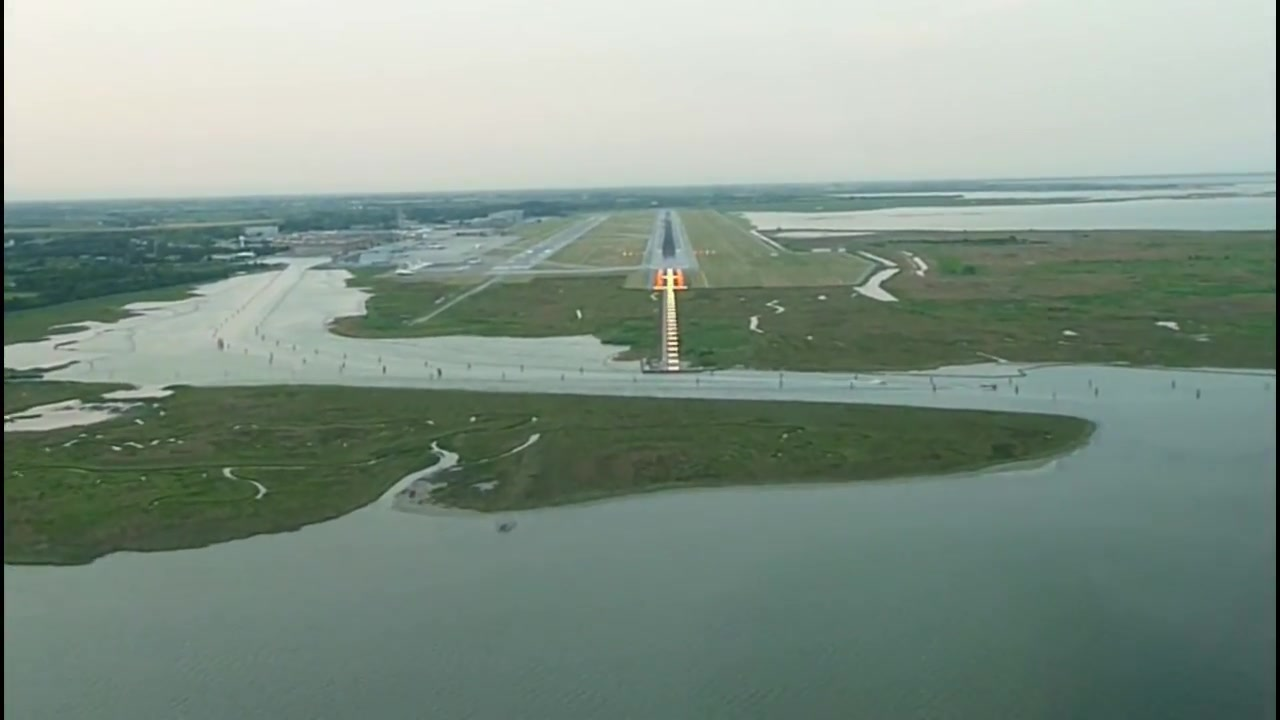runway: (499, 213, 611, 269), (645, 208, 691, 267)
